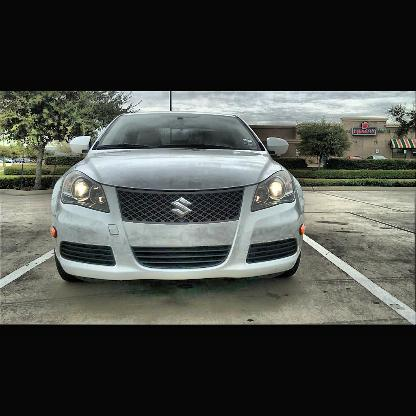Suzuki Kizashi Sedan 2012: (49, 112, 309, 288)
